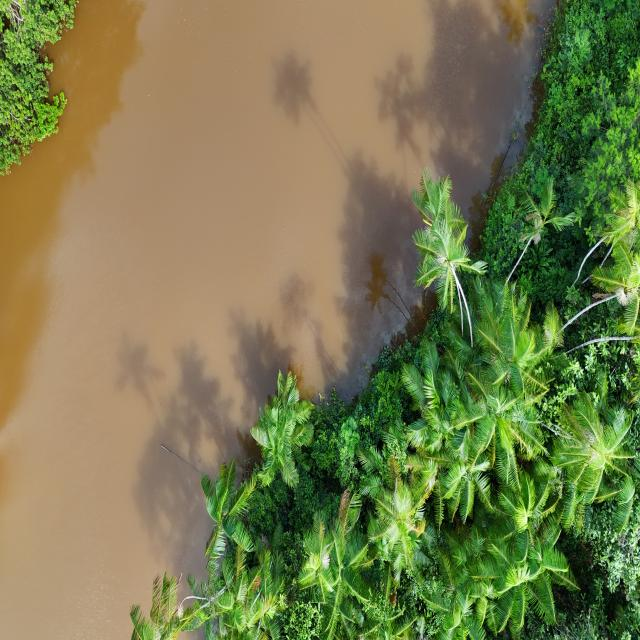vegetation: (129, 1, 639, 638)
